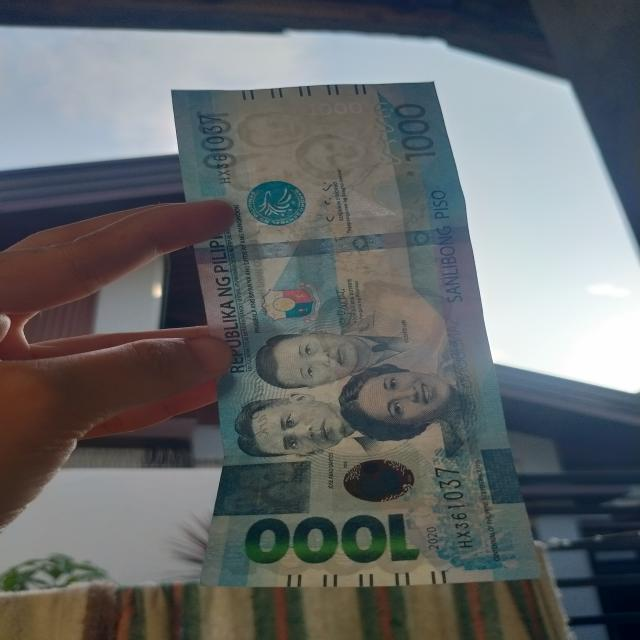concealed_value: (211, 462, 313, 514)
optically_variable_device: (328, 452, 428, 512)
security_thread: (191, 228, 469, 264)
see_through_mark: (362, 98, 408, 176)
serial_number: (428, 453, 493, 557), (192, 104, 239, 194)
value_watermark: (301, 101, 366, 118)
watermark: (210, 111, 390, 199)
